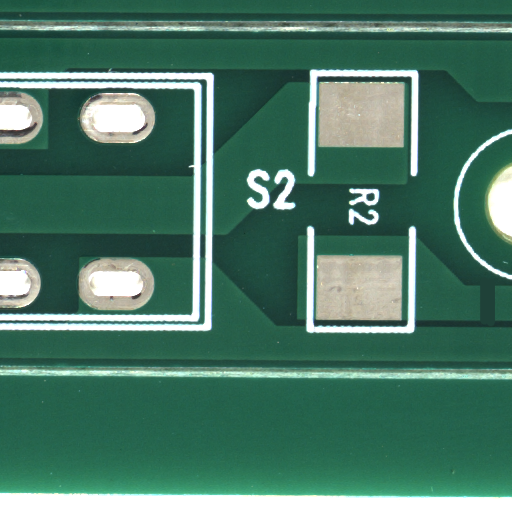Open_circuit: (488, 304, 509, 350)
